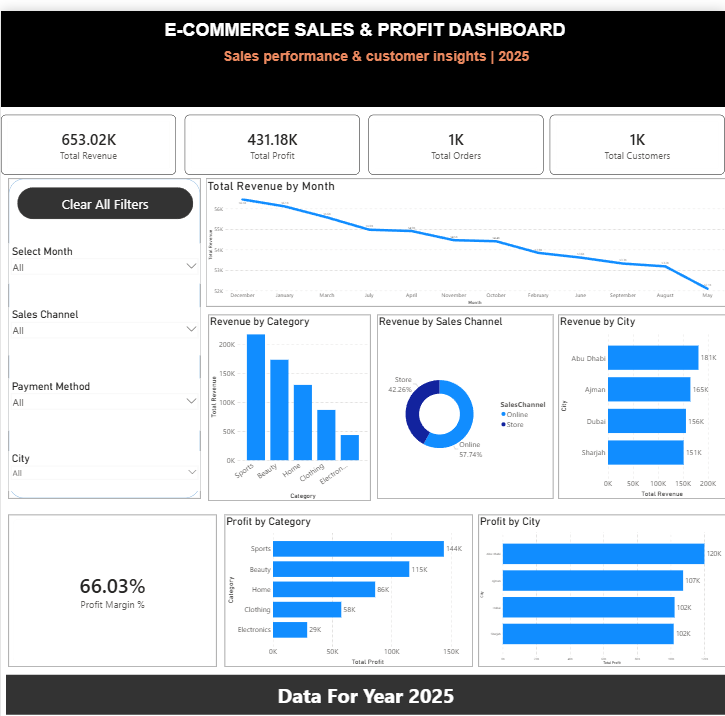

Layout of this report page (visuals, bound fields, positions):
{"tool":"powerbi","page":{"name":"Page 1","canvas":[2900,2850],"ordinal":0},"visuals":[{"type":"shape","box":[32,672,768,1280],"z":0},{"type":"cardVisual","fields":{"Data":["ecommerceanalytics orders.Test Orders"]},"box":[1472,416,700,240],"z":1000},{"type":"cardVisual","fields":{"Data":["Customers.Test Customers"]},"box":[2196,416,700,240],"z":2000},{"type":"cardVisual","fields":{"Data":["ecommerceanalytics orders.Total Revenue"]},"box":[0,416,700,240],"z":3000},{"type":"cardVisual","fields":{"Data":["ecommerceanalytics orders.Total Profit"]},"box":[736,416,700,240],"z":4000},{"type":"lineChart","fields":{"Category":["DateTable.Month"],"Y":["ecommerceanalytics orders.Total Revenue"]},"box":[820,672,2080,512],"z":5000},{"type":"clusteredColumnChart","title":"Revenue by Category","fields":{"Category":["Products.Category"],"Y":["ecommerceanalytics orders.Total Revenue"]},"box":[832,1216,648,744],"z":6000},{"type":"donutChart","title":"Revenue by Sales Channel","fields":{"Category":["ecommerceanalytics orders.SalesChannel"],"Y":["ecommerceanalytics orders.Total Revenue"]},"box":[1504,1216,704,736],"z":7000},{"type":"clusteredBarChart","title":"Revenue by City","fields":{"Category":["Customers.City"],"Y":["ecommerceanalytics orders.Total Revenue"]},"box":[2228,1216,672,736],"z":8000},{"type":"slicer","fields":{"Values":["Customers.City"]},"box":[32,1760,768,160],"z":9000},{"type":"textbox","box":[-12,0,2912,384],"z":11000},{"type":"cardVisual","fields":{"Data":["ecommerceanalytics orders.Profit Margin %"]},"box":[32,2016,832,608],"z":12000},{"type":"slicer","fields":{"Values":["DateTable.Year Month"]},"box":[32,928,768,160],"z":13000},{"type":"slicer","fields":{"Values":["ecommerceanalytics orders.PaymentMethod"]},"box":[32,1472,768,208],"z":14000},{"type":"slicer","fields":{"Values":["ecommerceanalytics orders.SalesChannel"]},"box":[32,1184,768,192],"z":15000},{"type":"actionButton","box":[64,704,704,128],"z":16000},{"type":"clusteredBarChart","title":"Profit by Category","fields":{"Category":["Products.Category"],"Y":["ecommerceanalytics orders.Total Profit"]},"box":[896,2016,992,608],"z":17000},{"type":"clusteredBarChart","title":"Profit by City","fields":{"Category":["Customers.City"],"Y":["ecommerceanalytics orders.Total Profit"]},"box":[1908,2016,991,608],"z":18000},{"type":"textbox","box":[20,2656,2880,160],"z":18001}]}

Visuals, with their boxes in screenshot pixels (x1, y1, x2, y2), scaled from the page's 2900x2850 canvas onto the 725x716 screenshot:
shape: Rect(8, 169, 200, 490)
cardVisual - ecommerceanalytics orders.Test Orders: Rect(368, 105, 543, 165)
cardVisual - Customers.Test Customers: Rect(549, 105, 724, 165)
cardVisual - ecommerceanalytics orders.Total Revenue: Rect(0, 105, 175, 165)
cardVisual - ecommerceanalytics orders.Total Profit: Rect(184, 105, 359, 165)
lineChart - DateTable.Month x ecommerceanalytics orders.Total Revenue: Rect(205, 169, 724, 297)
"Revenue by Category" clusteredColumnChart: Rect(208, 305, 370, 492)
"Revenue by Sales Channel" donutChart: Rect(376, 305, 552, 490)
"Revenue by City" clusteredBarChart: Rect(557, 305, 724, 490)
slicer - Customers.City: Rect(8, 442, 200, 482)
textbox: Rect(0, 0, 724, 96)
cardVisual - ecommerceanalytics orders.Profit Margin %: Rect(8, 506, 216, 659)
slicer - DateTable.Year Month: Rect(8, 233, 200, 273)
slicer - ecommerceanalytics orders.PaymentMethod: Rect(8, 370, 200, 422)
slicer - ecommerceanalytics orders.SalesChannel: Rect(8, 297, 200, 346)
actionButton: Rect(16, 177, 192, 209)
"Profit by Category" clusteredBarChart: Rect(224, 506, 472, 659)
"Profit by City" clusteredBarChart: Rect(477, 506, 724, 659)
textbox: Rect(5, 667, 724, 707)
